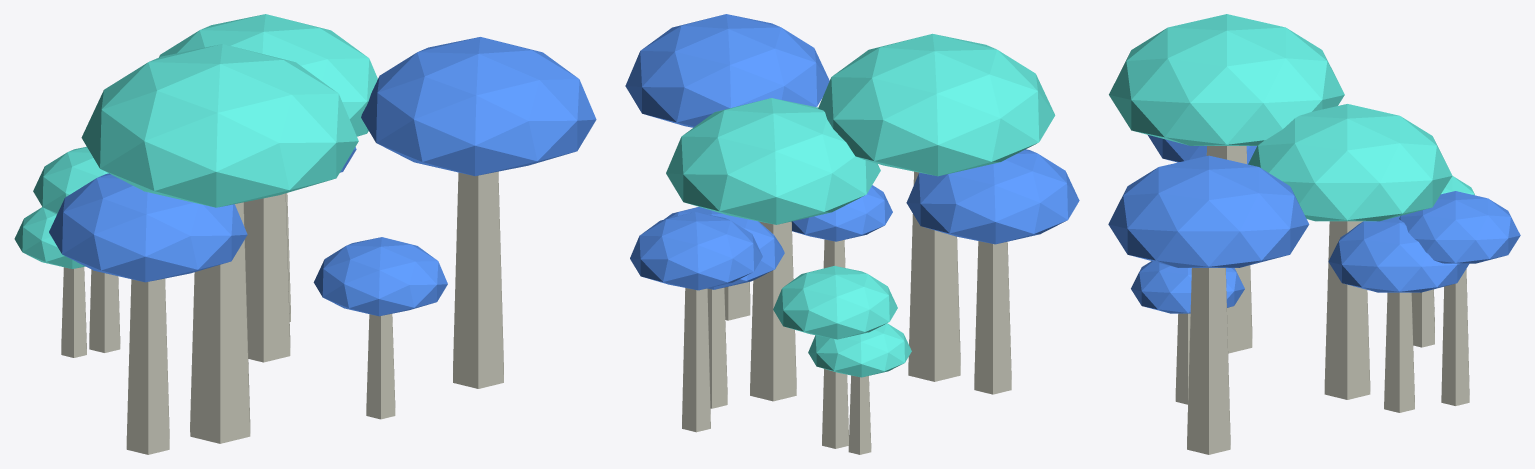
Rendered from ET_Plant_GlowCaps.obj.
3 renders of one model, left to right at view 1: azimuth 30°, elevation 25°; view 2: azimuth 150°, elevation 25°; view 3: azimuth 270°, elevation 25°, orthographic. The views are drawn at different scales.
Parts seen in each view (by area): view 1: cap_3, cap_8, cap_0, stem_3, stem_8, cap_5, cap_4, stem_5, stem_0, stem_4, cap_1, stem_1 (+2 smaller); view 2: cap_3, cap_5, cap_8, cap_0, cap_2, stem_3, cap_1, stem_5, stem_0, cap_7, stem_2, cap_4 (+6 smaller); view 3: cap_3, cap_8, cap_5, stem_8, cap_6, cap_2, stem_5, stem_6, stem_2, cap_4, stem_3, stem_1 (+2 smaller).
Part boxes in pixels (<box>): cap_3: <box>81,44,358,207</box>; cap_8: <box>361,37,596,176</box>; cap_0: <box>49,173,247,282</box>; stem_3: <box>190,202,250,443</box>; stem_8: <box>453,171,503,388</box>; cap_5: <box>159,14,377,136</box>; cap_4: <box>313,237,447,316</box>; stem_5: <box>244,193,290,362</box>; stem_0: <box>126,278,169,454</box>; stem_4: <box>366,314,395,419</box>; cap_1: <box>33,146,108,214</box>; stem_1: <box>89,269,120,352</box>; cap_3: <box>818,33,1055,176</box>; cap_5: <box>666,98,880,224</box>; cap_8: <box>625,14,829,127</box>; cap_0: <box>906,149,1079,244</box>; cap_2: <box>630,212,762,290</box>; stem_3: <box>908,171,960,381</box>; cap_1: <box>773,266,897,339</box>; stem_5: <box>750,221,796,401</box>; stem_0: <box>974,241,1011,394</box>; cap_7: <box>808,323,911,377</box>; stem_2: <box>682,288,710,432</box>; cap_4: <box>791,185,892,241</box>; cap_3: <box>1109,14,1344,145</box>; cap_8: <box>1108,155,1309,267</box>; cap_5: <box>1248,104,1452,221</box>; stem_8: <box>1187,268,1230,454</box>; cap_6: <box>1328,216,1469,292</box>; cap_2: <box>1399,191,1520,263</box>; stem_5: <box>1324,221,1370,399</box>; stem_6: <box>1384,292,1414,412</box>; stem_2: <box>1441,269,1469,405</box>; cap_4: <box>1131,261,1244,313</box>; stem_3: <box>1206,146,1252,353</box>; stem_1: <box>1411,289,1434,347</box>.
Size of the model in its own units: 4.22 by 2.91 by 3.5.
